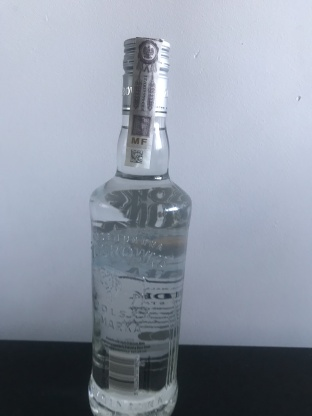nakretka: (118, 32, 173, 123)
